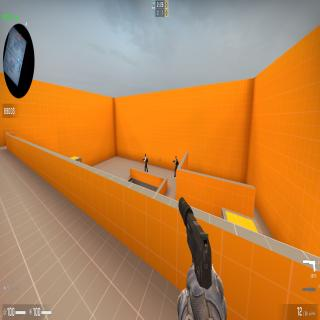T-Body: (174, 156, 178, 177), (144, 154, 148, 172)
T-Head: (175, 156, 177, 159), (145, 154, 146, 158)
